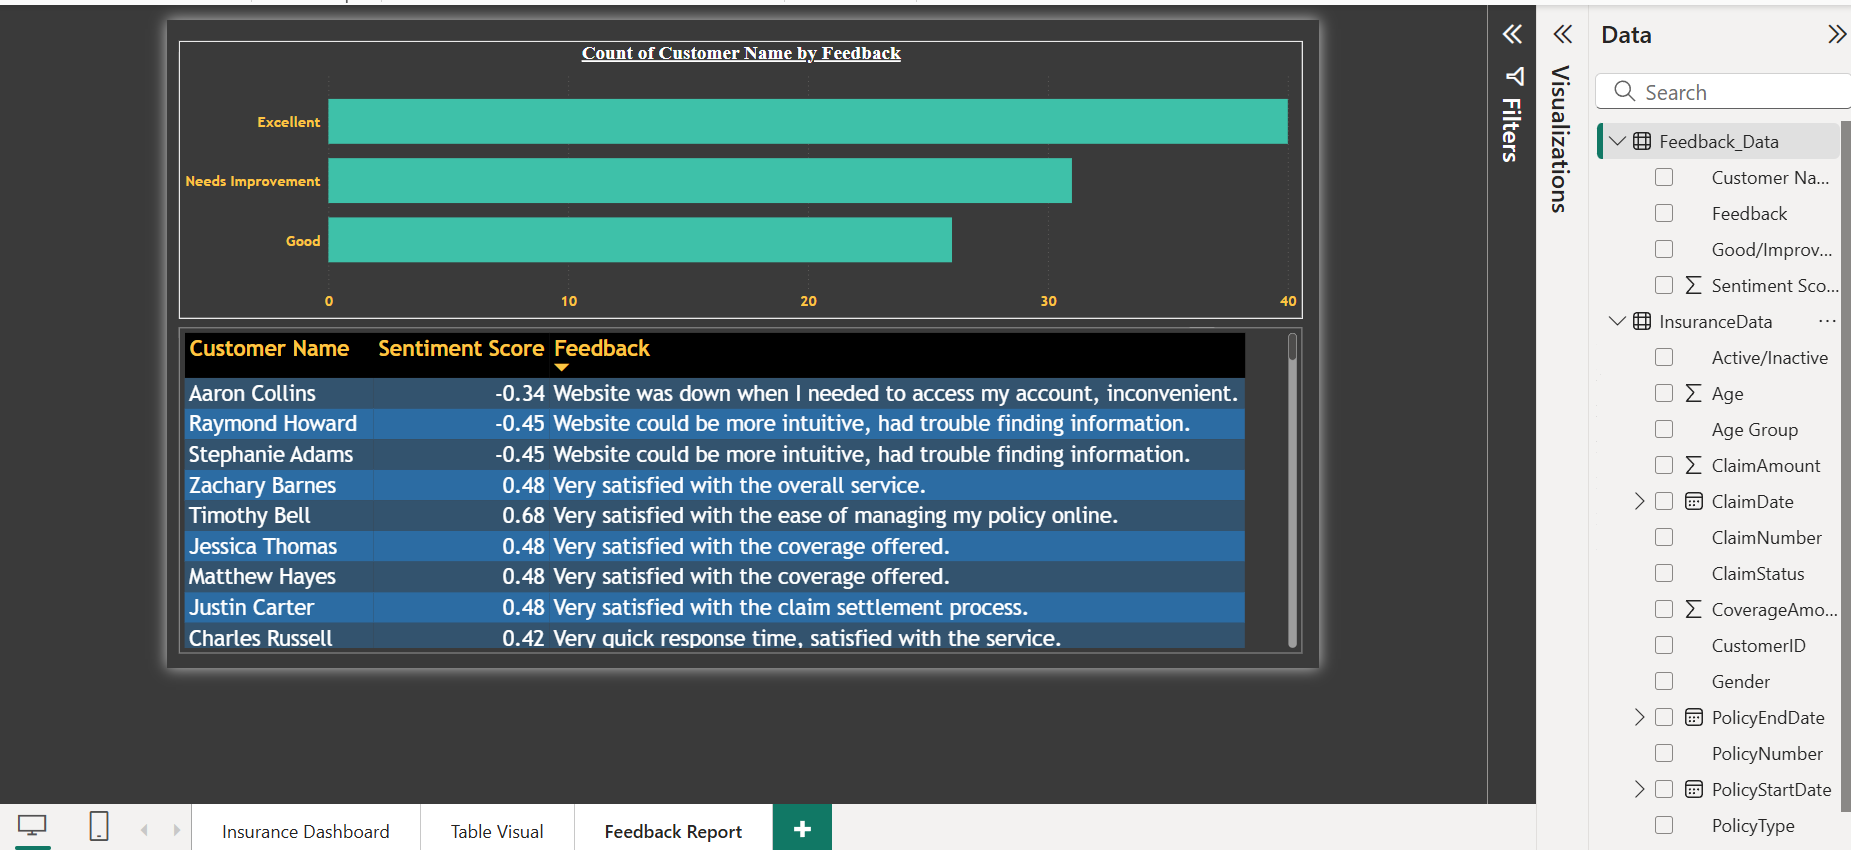

Layout of this report page (visuals, bound fields, positions):
{"tool":"powerbi","page":{"name":"Feedback Report","canvas":[1280,720],"ordinal":2},"visuals":[{"type":"barChart","title":"Count of Customer Name by Feedback","fields":{"Category":["dataset.Good/Improvement"],"Y":["CountNonNull(dataset.Customer Name)"]},"box":[14,24,1248,308],"z":0},{"type":"tableEx","fields":{"Values":["dataset.Customer Name","Sum(dataset.Sentiment Score)","dataset.Feedback"]},"box":[14,342,1248,362],"z":1000}]}

Visuals, with their boxes on the page's 1280x720 design canvas (x1, y1, x2, y2). These are canvas units, not pixel positions in the 1851x850 screenshot, which may show the page scaled, cropped or inside an application window:
"Count of Customer Name by Feedback" barChart: bbox(14, 24, 1262, 332)
tableEx - dataset.Customer Name x Sum(dataset.Sentiment Score): bbox(14, 342, 1262, 704)
